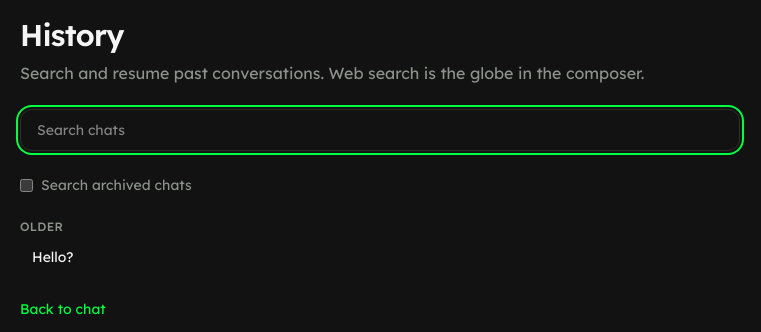
it: SearchPage › filters conversation titles and links into chat
Check: the heading "History" is shown, box top-left (20, 16), bottom-right (124, 54)
Type "nope" into the search field labelled "Search chats" at (380, 130), box top-left (20, 109), bottom-right (740, 151)
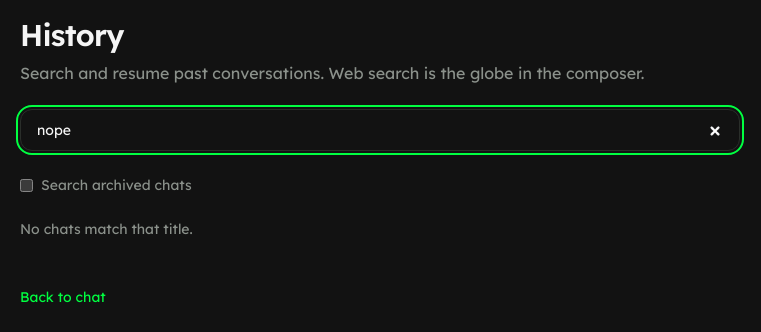
Check: the link "Hello?" is gone
Check: the text "No chats match that title." is shown, box top-left (20, 220), bottom-right (193, 238)
